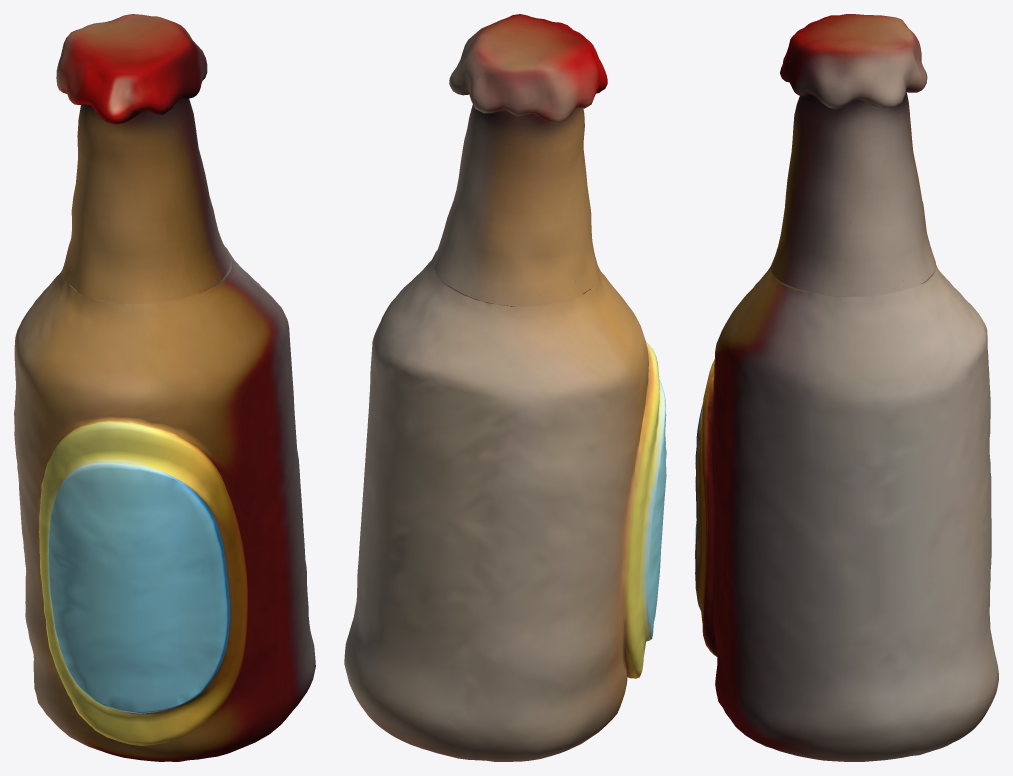
The model's file is Stack 1A - Beer.glb.
3 views of the same model, side by side, from view 1: azimuth 30°, elevation 25°; view 2: azimuth 150°, elevation 25°; view 3: azimuth 270°, elevation 25° (orthographic). The views are drawn at different scales.
Parts seen in each view (by area): view 1: Beer part 1, Beer part 2, Beer part 3; view 2: Beer part 1, Beer part 2, Beer part 3; view 3: Beer part 1, Beer part 2, Beer part 3.
Boxes of the visible parts, x1,y1,x2,y2 form: Beer part 1: (14,247,315,761); Beer part 2: (62,98,230,304); Beer part 3: (56,14,207,124); Beer part 1: (344,250,666,761); Beer part 2: (433,104,599,306); Beer part 3: (449,14,607,123); Beer part 1: (695,265,998,761); Beer part 2: (770,92,935,296); Beer part 3: (780,14,927,109).
Bounding box in the file's own units: 0.4033 × 1 × 0.4009.
3 materials, 3 textured.
